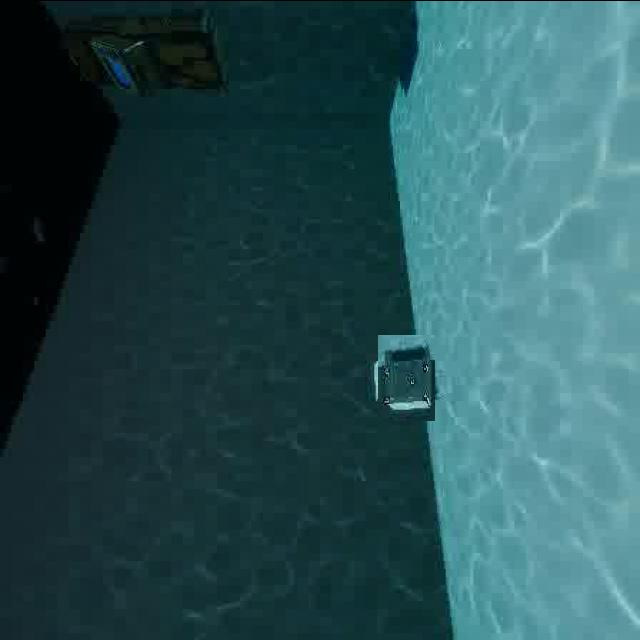Control Panel: (51, 9, 234, 102)
Docking Station: (370, 341, 442, 413)
